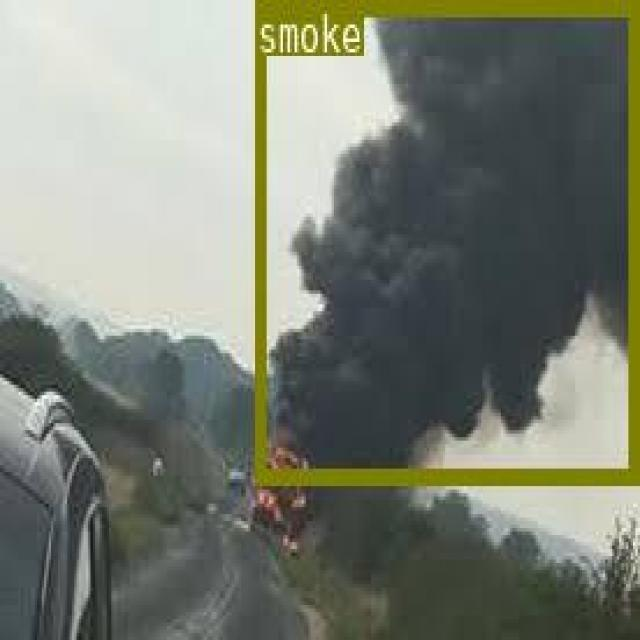smoke: (253, 0, 635, 479)
